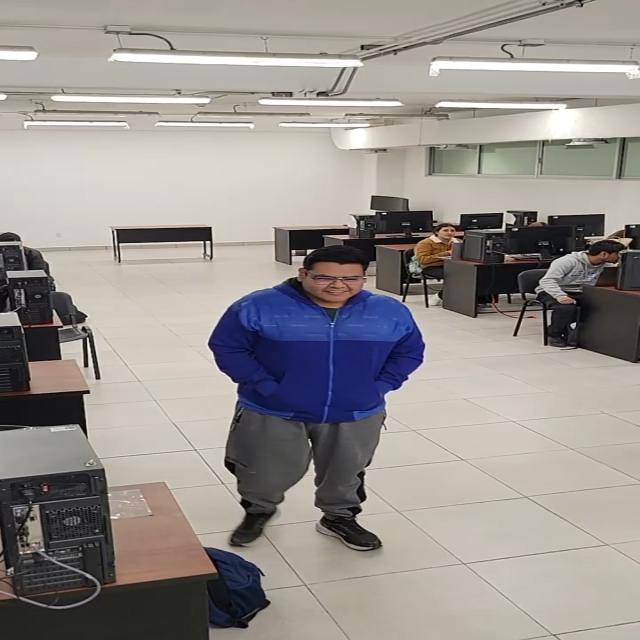Persona: (205, 245, 430, 555)
